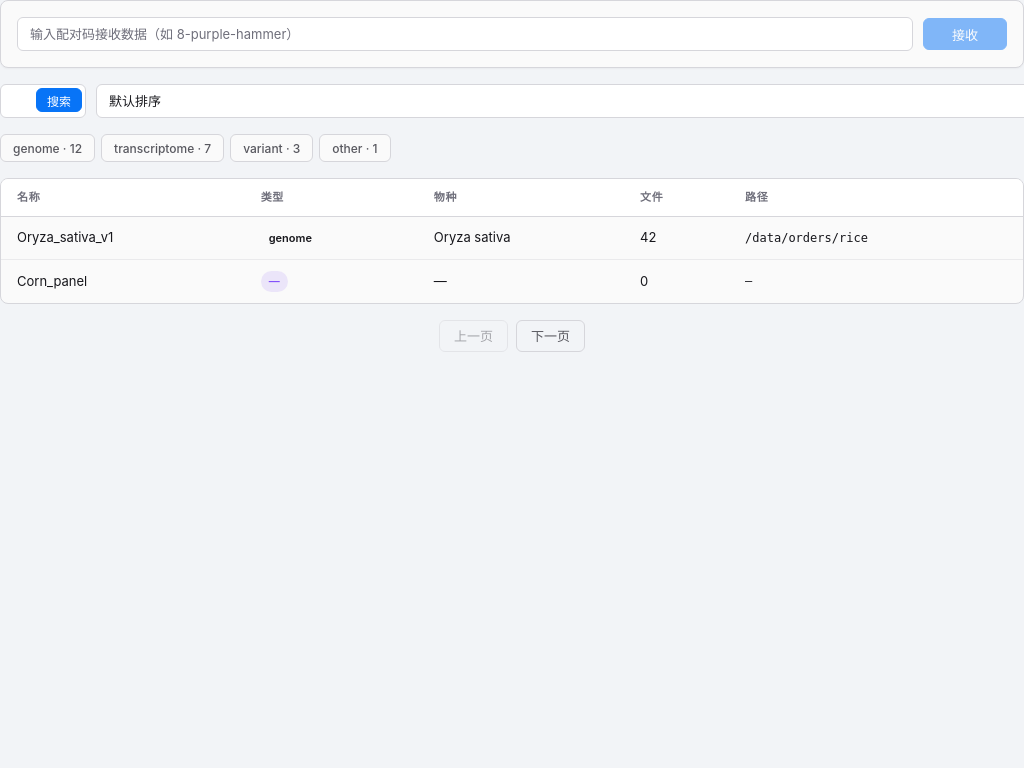
Scenario: DatasetsPage › opens detail modal with assets and files on row click
What coordinates should you click on to do the following:
click the text "Oryza_sativa_v1"
I would click on:
 (123, 238)
Its box is [1,216,245,260].
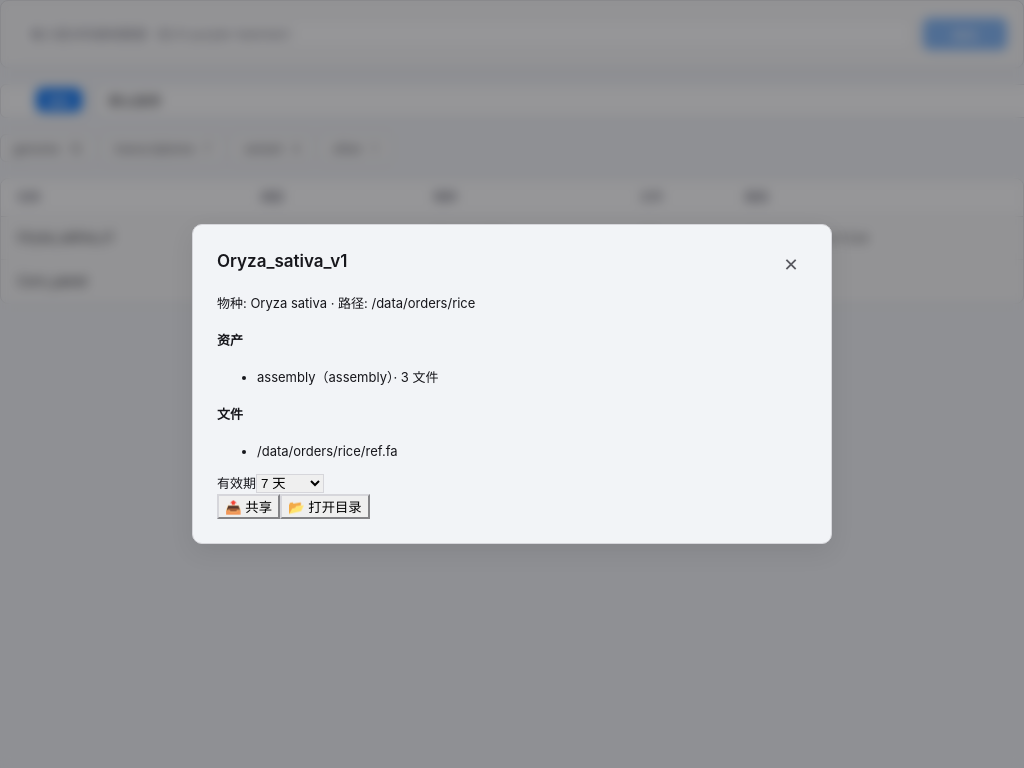
Check: the heading "资产" is shown, box [217,332,243,348]
Check: the list item "assembly（assembly）· 3 文件" is shown, box [257,369,439,385]
Check: the list item "/data/orders/rice/ref.fa" is shown, box [257,443,398,459]
